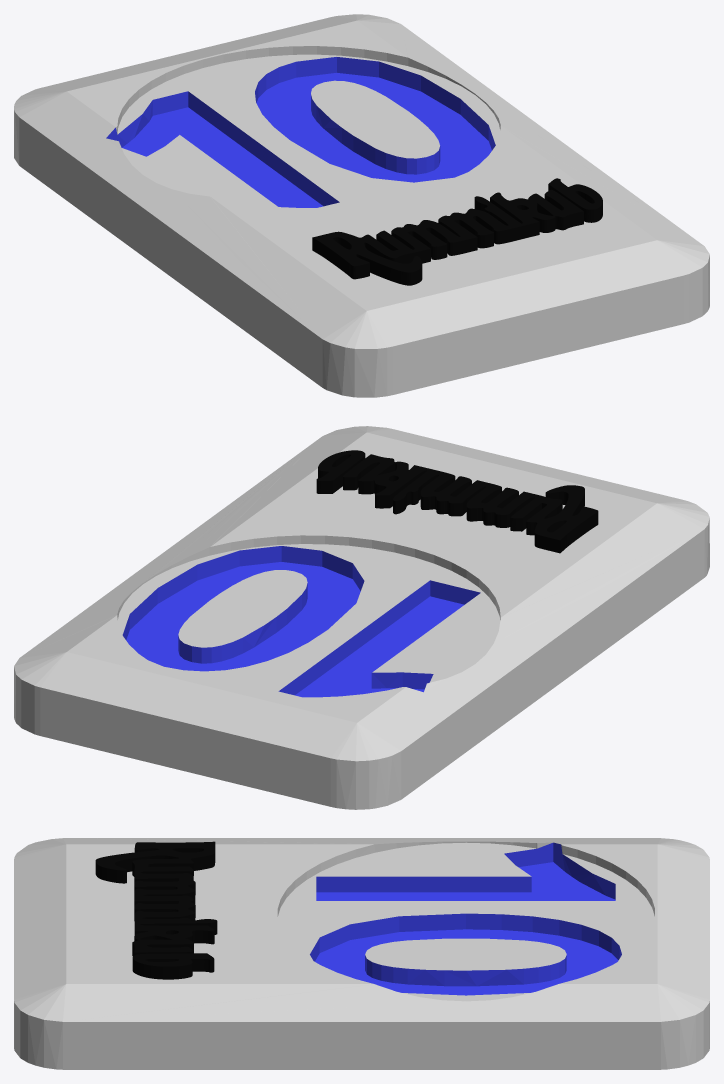
3 renders of one model, top to bottom at view 1: azimuth 30°, elevation 25°; view 2: azimuth 150°, elevation 25°; view 3: azimuth 270°, elevation 25°, orthographic.
Parts seen in each view (by area): view 1: Rummikub 10 Fixed, Rummikub 1 Fixed.001; view 2: Rummikub 10 Fixed, Rummikub 1 Fixed.001; view 3: Rummikub 10 Fixed, Rummikub 1 Fixed.001.
Boxes of the visible parts, bbox=[...] form: Rummikub 10 Fixed: bbox=[14, 14, 709, 397]; Rummikub 1 Fixed.001: bbox=[312, 178, 602, 285]; Rummikub 10 Fixed: bbox=[14, 426, 709, 809]; Rummikub 1 Fixed.001: bbox=[316, 450, 598, 553]; Rummikub 10 Fixed: bbox=[14, 838, 709, 1069]; Rummikub 1 Fixed.001: bbox=[95, 841, 217, 979].
Bounding box in the file's own units: 2499 × 486 × 4000.
